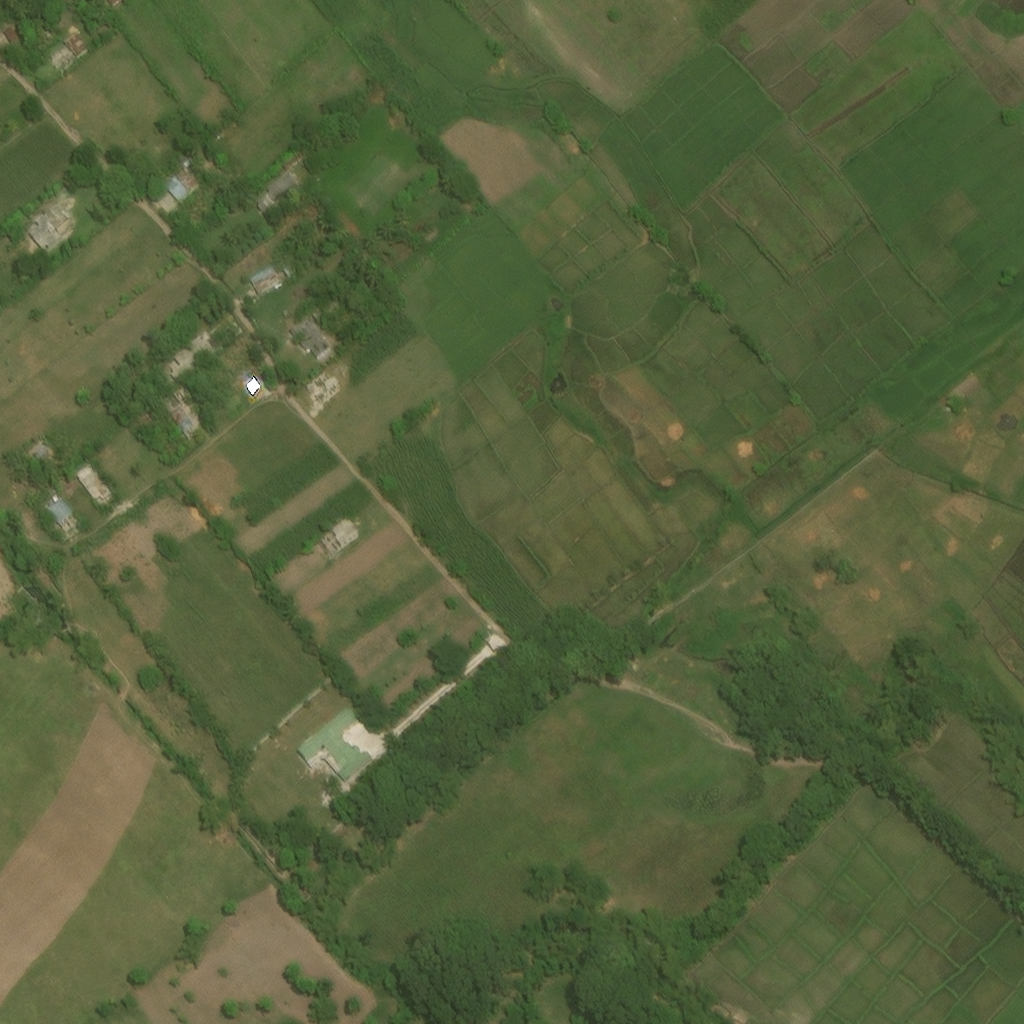minor_damage: (32, 210, 78, 258), (165, 172, 202, 208), (292, 316, 326, 351), (248, 262, 283, 296), (170, 339, 204, 373), (306, 745, 344, 774), (75, 462, 107, 495), (205, 313, 237, 346), (47, 498, 77, 528), (169, 403, 196, 436), (332, 517, 360, 546), (192, 330, 219, 359), (64, 32, 88, 56), (35, 446, 54, 463), (319, 298, 338, 315), (3, 23, 20, 42), (248, 365, 262, 380), (283, 265, 295, 277), (182, 161, 193, 172)
no_damage: (258, 173, 304, 221)
